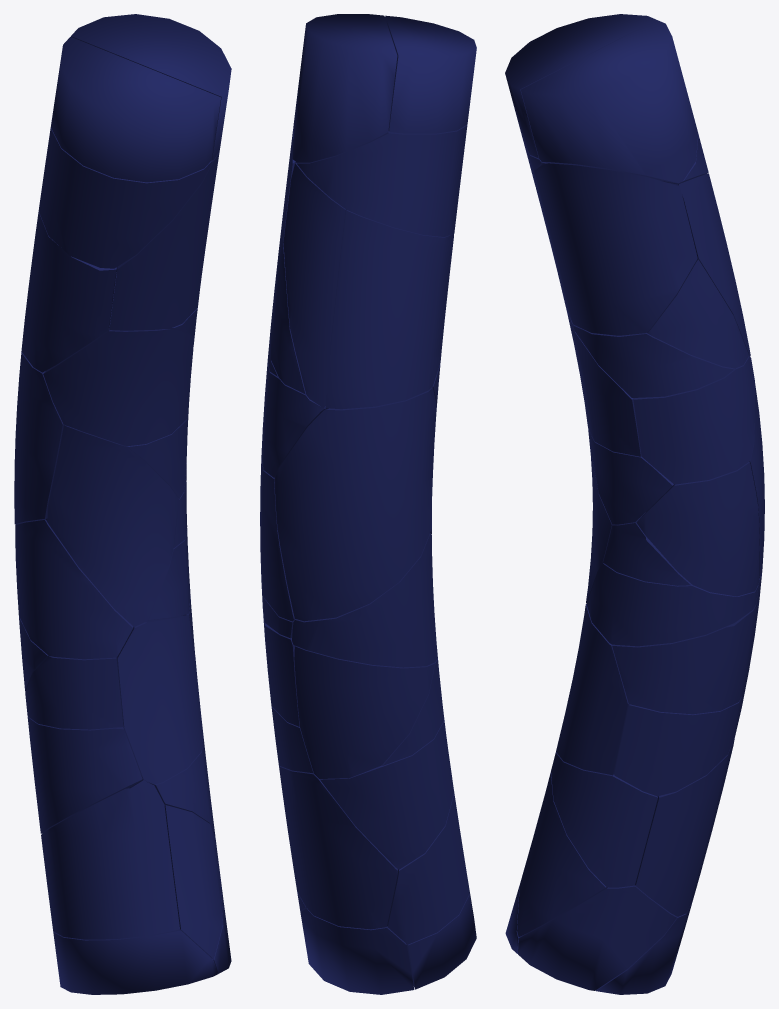
The model's file is VolumeShredded3.fbx.
The picture shows the model from 3 angles, left to right: view 1: azimuth 30°, elevation 25°; view 2: azimuth 150°, elevation 25°; view 3: azimuth 270°, elevation 25°; orthographic projection.
Parts seen in each view (by area): view 1: Volume3_cell.002, Volume3_cell.024, Volume3_cell.003, Volume3_cell.026, Volume3_cell.012, Volume3_cell.007, Volume3_cell.004, Volume3_cell.008, Volume3_cell.013, Volume3_cell.025, Volume3_cell, Volume3_cell.010 (+9 smaller); view 2: Volume3_cell.021, Volume3_cell.013, Volume3_cell.014, Volume3_cell.010, Volume3_cell.012, Volume3_cell.020, Volume3_cell.018, Volume3_cell.025, Volume3_cell.004, Volume3_cell.002, Volume3_cell.003, Volume3_cell.001 (+9 smaller); view 3: Volume3_cell.008, Volume3_cell.010, Volume3_cell.006, Volume3_cell.016, Volume3_cell.015, Volume3_cell.005, Volume3_cell.023, Volume3_cell.028, Volume3_cell.011, Volume3_cell.020, Volume3_cell.007, Volume3_cell.027 (+11 smaller).
Part boxes in pixels (x1,y1,x2,y2): Volume3_cell.002: (51,36,220,182); Volume3_cell.024: (46,425,179,626); Volume3_cell.003: (41,780,179,939); Volume3_cell.026: (43,329,193,446); Volume3_cell.012: (39,113,212,268); Volume3_cell.007: (116,615,203,784); Volume3_cell.004: (15,520,133,659); Volume3_cell.008: (109,151,219,330); Volume3_cell.013: (21,195,116,372); Volume3_cell.025: (27,717,142,833); Volume3_cell: (53,930,217,994); Volume3_cell.010: (71,14,231,160); Volume3_cell.021: (274,387,436,621); Volume3_cell.013: (325,210,453,409); Volume3_cell.014: (294,646,434,778); Volume3_cell.010: (293,14,397,162); Volume3_cell.012: (296,125,467,236); Volume3_cell.020: (279,765,397,929); Volume3_cell.018: (283,162,346,408); Volume3_cell.025: (320,720,453,869); Volume3_cell.004: (292,533,437,667); Volume3_cell.002: (385,15,476,133); Volume3_cell.003: (387,768,469,944); Volume3_cell.001: (300,908,414,994); Volume3_cell.008: (534,163,697,335); Volume3_cell.010: (521,20,698,183); Volume3_cell.006: (636,462,759,596); Volume3_cell.016: (633,356,754,484); Volume3_cell.015: (518,885,676,990); Volume3_cell.005: (612,605,755,714); Volume3_cell.023: (551,752,657,887); Volume3_cell.028: (586,563,758,646); Volume3_cell.011: (614,697,741,796); Volume3_cell.020: (635,738,734,916); Volume3_cell.007: (556,604,629,775); Volume3_cell.027: (517,773,605,936).
Size of the model in its own units: 32.2 by 194 by 48.65.
